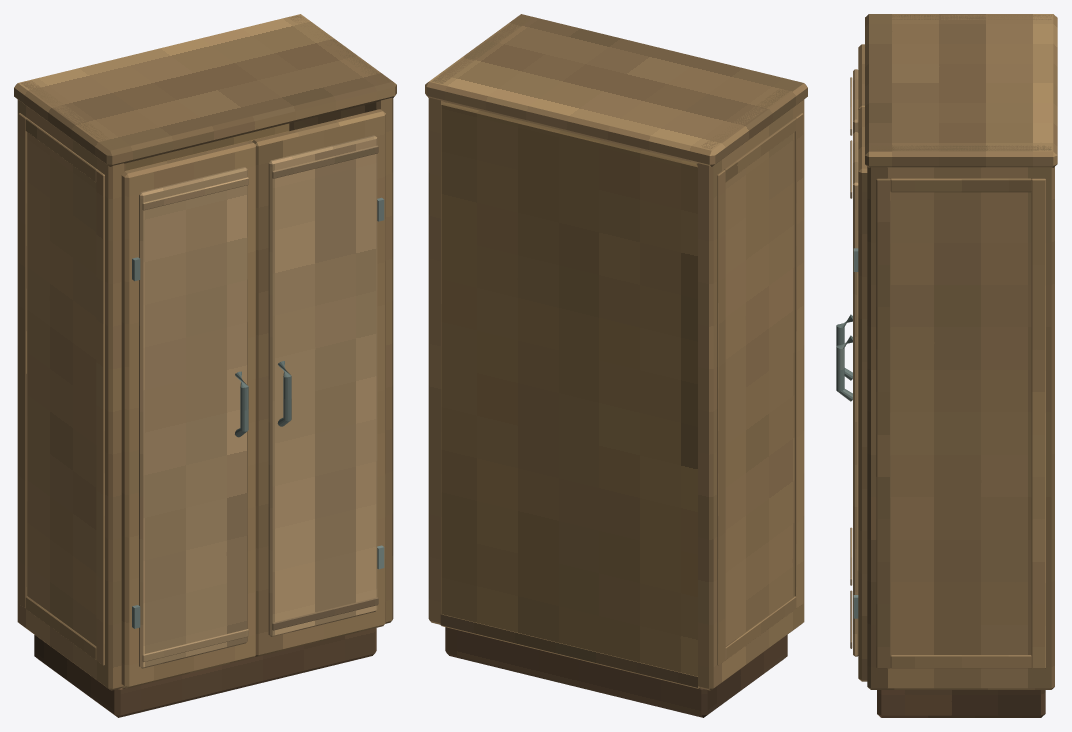
Rendered from wardrobe-wood.glb.
3 renders of one model, left to right at view 1: azimuth 30°, elevation 25°; view 2: azimuth 150°, elevation 25°; view 3: azimuth 270°, elevation 25°, orthographic.
Visible parts, largest first — view 1: wardrobe-wood/door-panel-1, wardrobe-wood/door-panel--1, wardrobe-wood/side--0.4115, wardrobe-wood/top, wardrobe-wood/door--1, wardrobe-wood/door-1, wardrobe-wood/plinth, wardrobe-wood/side-0.4115, wardrobe-wood/detail2-side-stile--1-1, wardrobe-wood/detail2-side-stile--1--1, wardrobe-wood/back, wardrobe-wood/detail2-side-rail--1-1 (+5 smaller); view 2: wardrobe-wood/back, wardrobe-wood/side--0.4115, wardrobe-wood/top, wardrobe-wood/plinth, wardrobe-wood/side-0.4115, wardrobe-wood/detail2-side-stile--1--1, wardrobe-wood/detail2-side-stile--1-1, wardrobe-wood/floor, wardrobe-wood/detail2-side-rail--1-1, wardrobe-wood/detail2-side-rail--1-0; view 3: wardrobe-wood/side-0.4115, wardrobe-wood/top, wardrobe-wood/detail2-side-stile-1-1, wardrobe-wood/detail2-side-stile-1--1, wardrobe-wood/door-1, wardrobe-wood/plinth, wardrobe-wood/door-panel-1, wardrobe-wood/detail2-side-rail-1-1, wardrobe-wood/detail2-side-rail-1-0, wardrobe-wood/side--0.4115, wardrobe-wood/handle-1, wardrobe-wood/door--1 (+1 smaller).
Boxes of the visible parts, x1,y1,x2,y2 form: wardrobe-wood/door-panel-1: (268, 135, 377, 636); wardrobe-wood/door-panel--1: (139, 167, 247, 668); wardrobe-wood/side--0.4115: (17, 80, 125, 690); wardrobe-wood/top: (14, 14, 396, 166); wardrobe-wood/door--1: (121, 140, 255, 688); wardrobe-wood/door-1: (252, 109, 385, 656); wardrobe-wood/plinth: (34, 628, 376, 717); wardrobe-wood/side-0.4115: (289, 15, 393, 623); wardrobe-wood/detail2-side-stile--1-1: (18, 113, 27, 608); wardrobe-wood/detail2-side-stile--1--1: (96, 170, 104, 665); wardrobe-wood/back: (125, 123, 289, 170); wardrobe-wood/detail2-side-rail--1-1: (25, 118, 97, 181); wardrobe-wood/back: (441, 102, 697, 676); wardrobe-wood/side--0.4115: (696, 81, 804, 690); wardrobe-wood/top: (425, 14, 807, 166); wardrobe-wood/plinth: (445, 627, 787, 717); wardrobe-wood/side-0.4115: (428, 15, 532, 624); wardrobe-wood/detail2-side-stile--1--1: (794, 113, 803, 608); wardrobe-wood/detail2-side-stile--1-1: (717, 170, 725, 665); wardrobe-wood/floor: (440, 614, 700, 688); wardrobe-wood/detail2-side-rail--1-1: (724, 118, 796, 181); wardrobe-wood/detail2-side-rail--1-0: (725, 596, 796, 659); wardrobe-wood/side-0.4115: (867, 145, 1054, 689); wardrobe-wood/top: (865, 14, 1057, 167); wardrobe-wood/detail2-side-stile-1-1: (1031, 178, 1045, 668); wardrobe-wood/detail2-side-stile-1--1: (876, 178, 890, 668); wardrobe-wood/door-1: (858, 107, 867, 681); wardrobe-wood/plinth: (877, 690, 1045, 717); wardrobe-wood/door-panel-1: (853, 132, 858, 656); wardrobe-wood/detail2-side-rail-1-1: (890, 178, 1031, 192); wardrobe-wood/detail2-side-rail-1-0: (890, 655, 1031, 668); wardrobe-wood/side--0.4115: (871, 15, 1051, 20); wardrobe-wood/handle-1: (836, 335, 852, 401); wardrobe-wood/door--1: (858, 44, 864, 109).
Bounding box in the file's own units: 0.891 × 1.69 × 0.5897.
6 materials, 6 textured.
